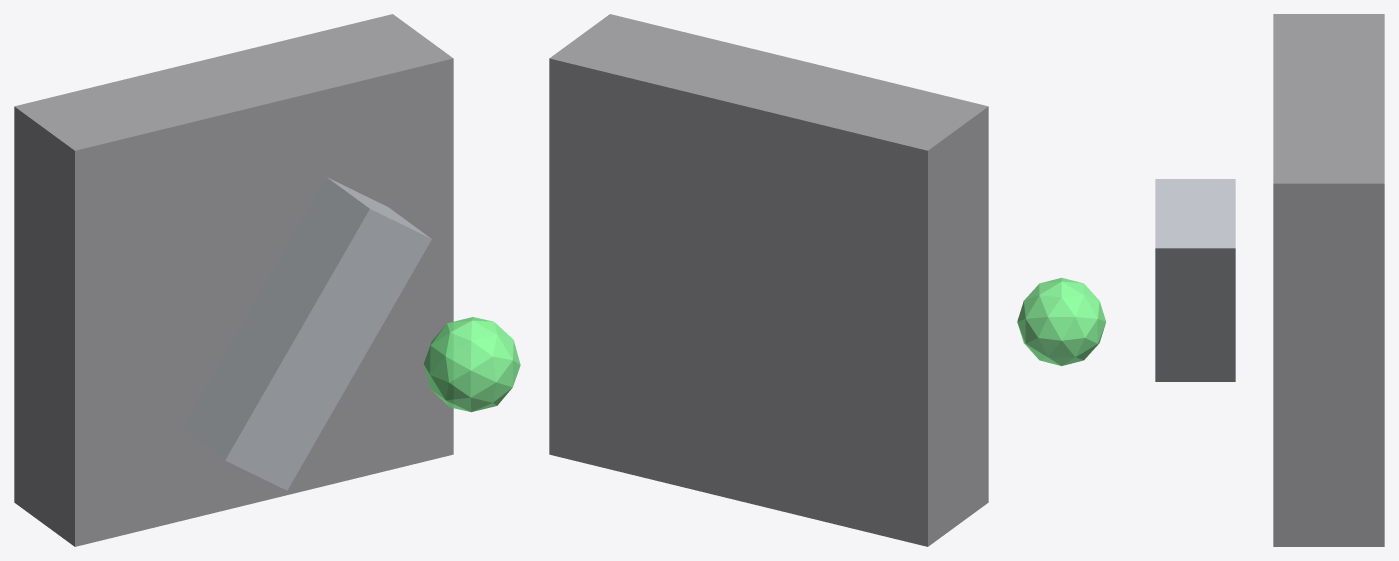
Rendered from quest_puzzle_switch.glb.
The picture shows the model from 3 angles, left to right: view 1: azimuth 30°, elevation 25°; view 2: azimuth 150°, elevation 25°; view 3: azimuth 270°, elevation 25°; orthographic projection. The views are drawn at different scales.
Parts seen in each view (by area): view 1: base, lever, indicator; view 2: base; view 3: base, lever, indicator.
Boxes of the visible parts, left/top/right/bottom form: base: left=14, top=14, right=453, bottom=546; lever: left=181, top=177, right=431, bottom=490; indicator: left=423, top=317, right=520, bottom=412; base: left=549, top=14, right=988, bottom=546; base: left=1273, top=14, right=1384, bottom=546; lever: left=1155, top=179, right=1235, bottom=381; indicator: left=1017, top=277, right=1105, bottom=365.
Bounding box in the file's own units: 0.9 × 0.9 × 0.825.
